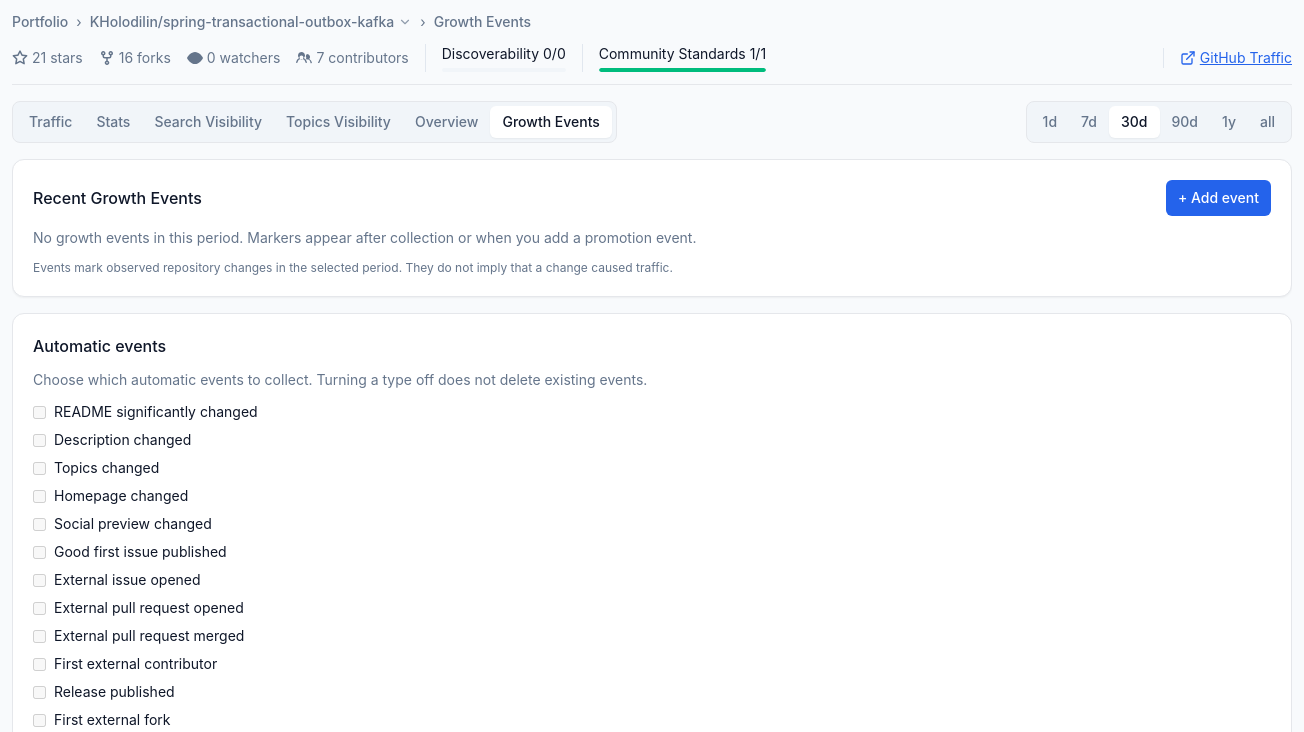
Test case: coverage gaps › covers repository details without collection and period change
This screenshot has width=1304, height=732.
Expected: the heading "Automatic events" is shown, [33,336,166,356]
Click the button "1d": [1050, 122] box [1031,106,1069,138]
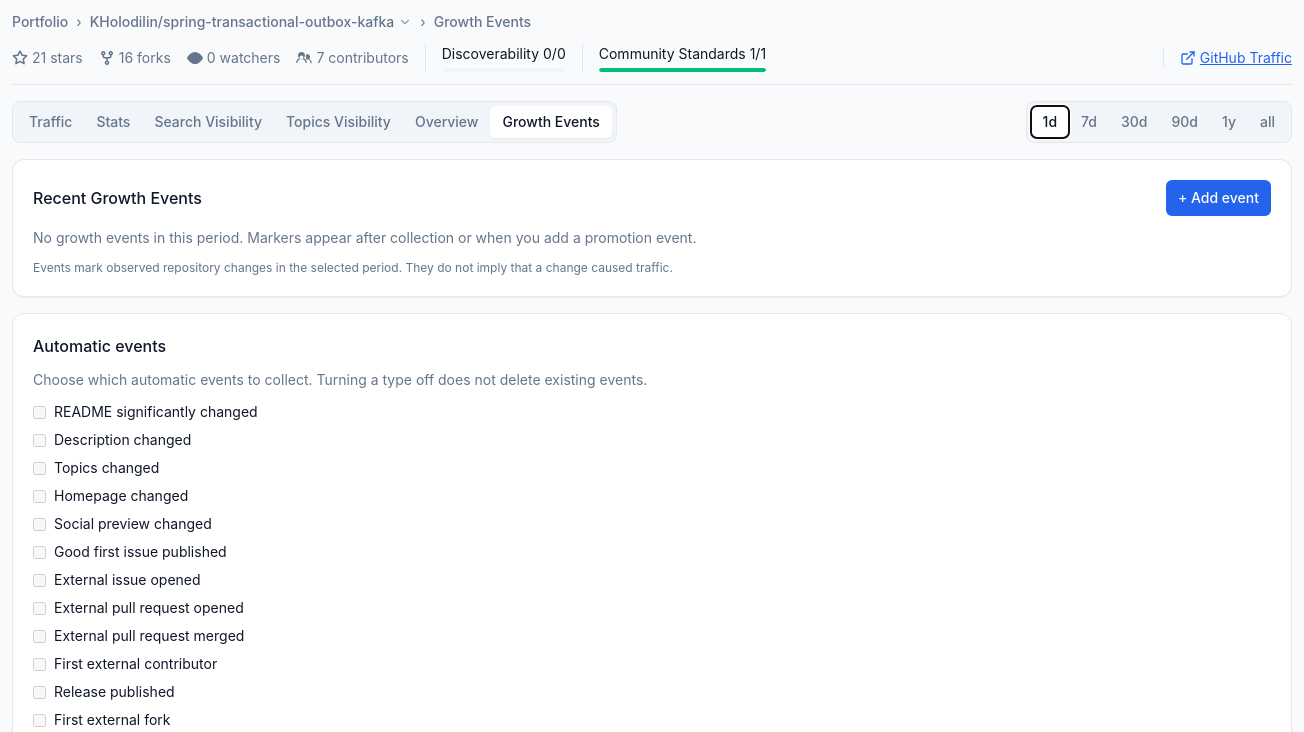
Click the button "Overview": [447, 122] box [403,106,490,138]
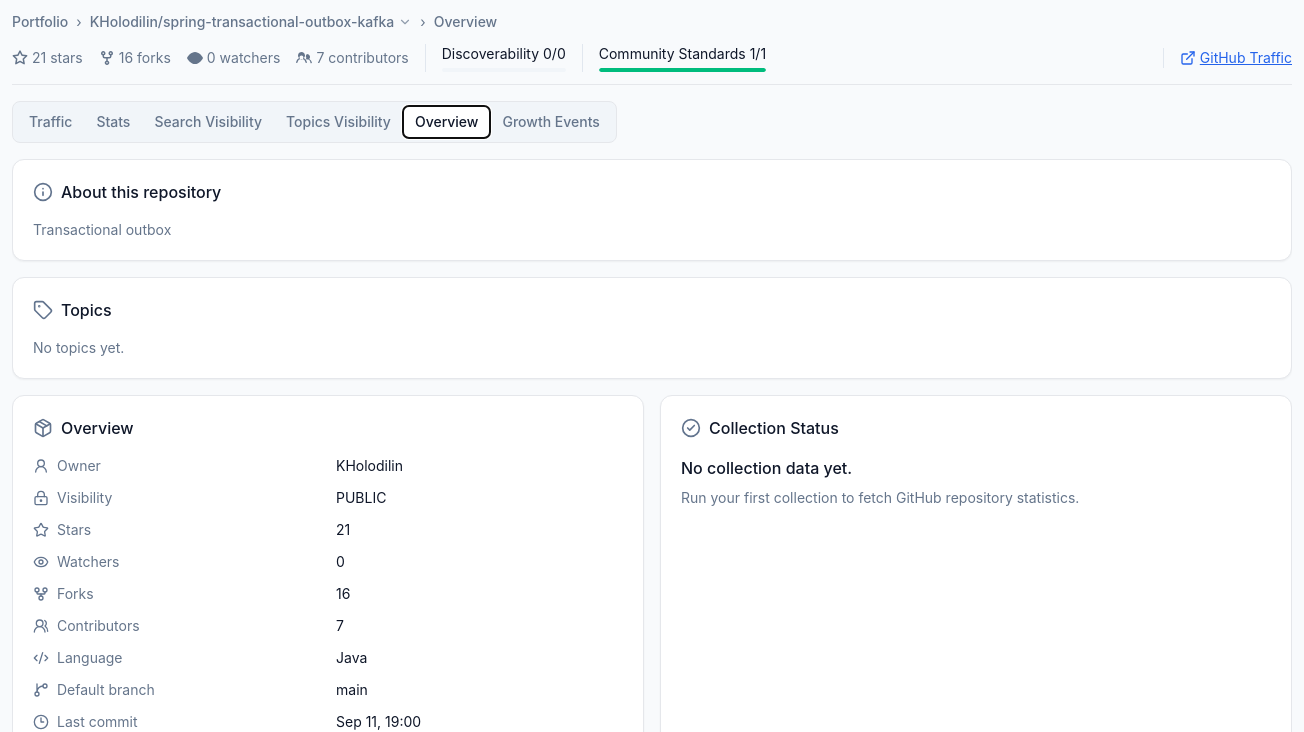
Now the heading "No collection data yet." is shown, box [681,458,852,478]
Click the button "Topics Visibility": [338, 122] box [274,106,403,138]
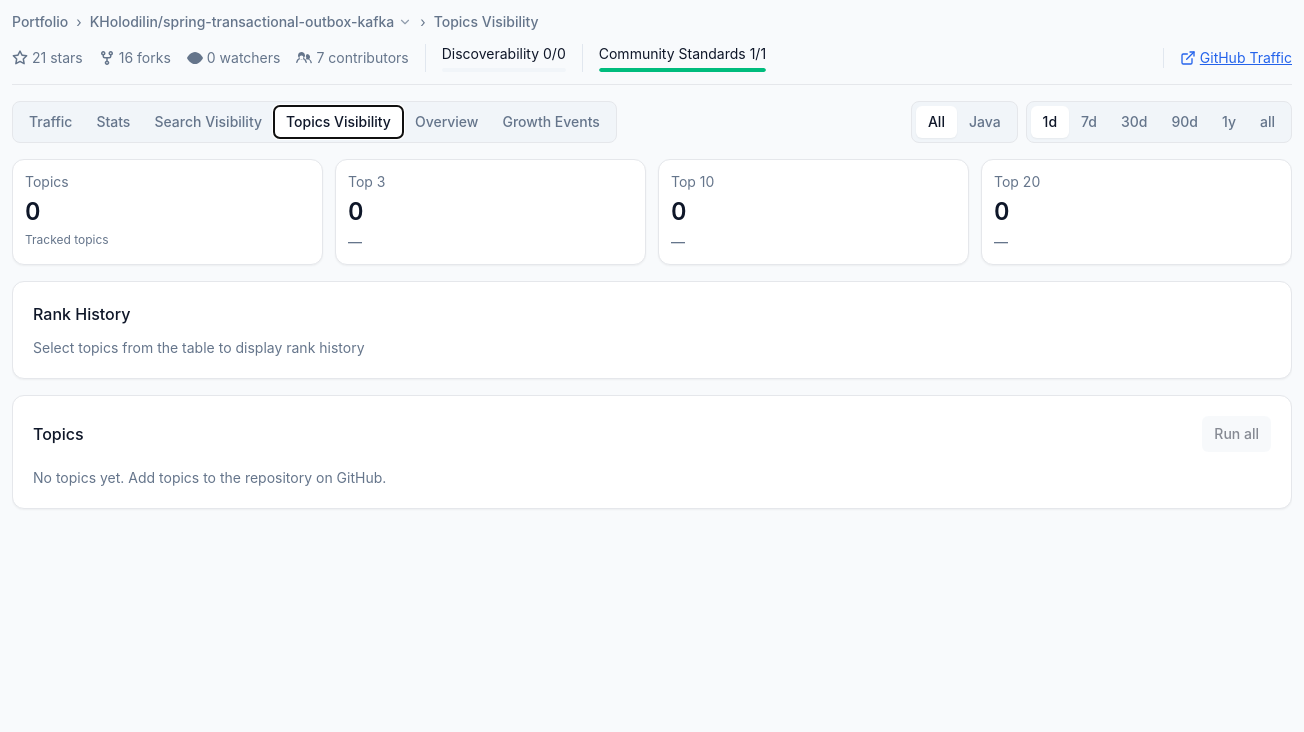
Now the text "No topics yet. Add topics to the repository on GitHub." is shown, box [33,469,386,486]
Click the button "Java": [985, 122] box [957,106,1013,138]
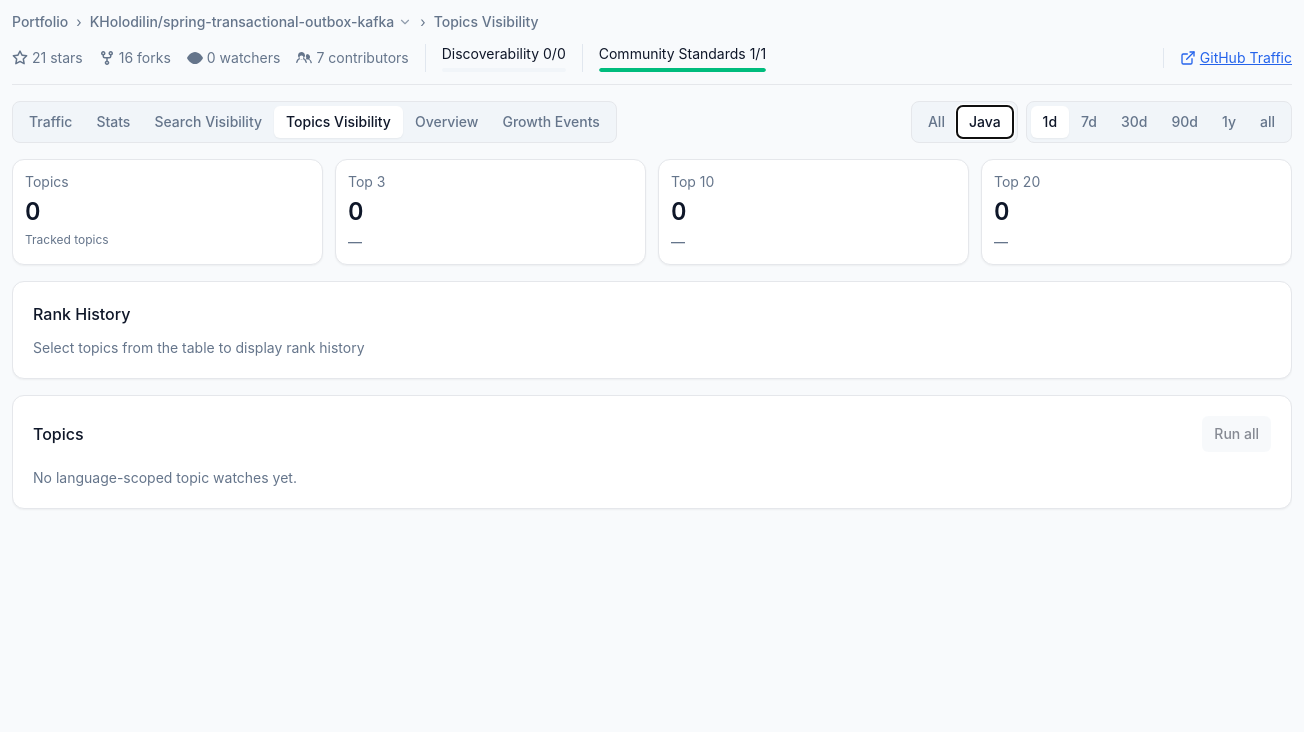
Now the text "No language-scoped topic watches yet." is shown, box [33,469,297,486]
Click the button "Stats": [113, 122] box [84,106,142,138]
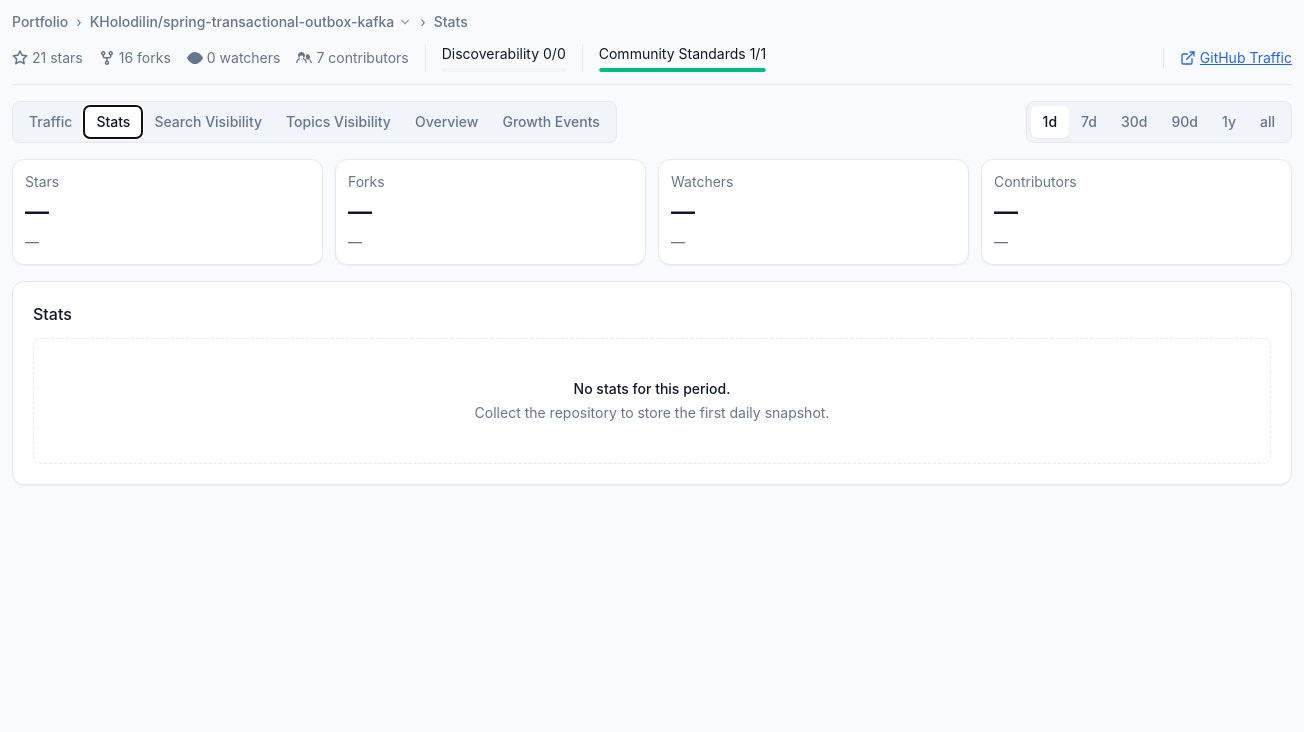
Now the text "No stats for this period." is shown, box [574,380,730,397]
